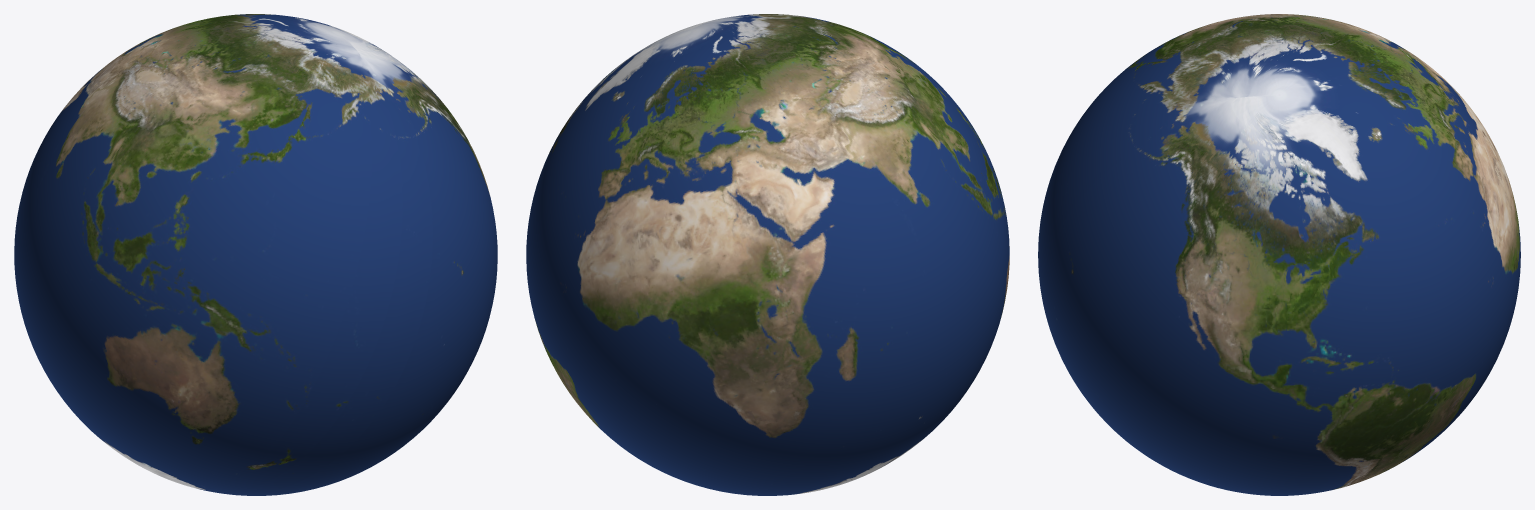
File: earth1.glb
3 views of the same model, side by side, from view 1: azimuth 30°, elevation 25°; view 2: azimuth 150°, elevation 25°; view 3: azimuth 270°, elevation 25° (orthographic).
Visible parts, largest first — view 1: Earth; view 2: Earth; view 3: Earth.
Boxes of the visible parts, x1,y1,x2,y2 form: Earth: (14,14,497,495); Earth: (526,14,1009,495); Earth: (1038,14,1520,495).
Size of the model in its own units: 0.1998 by 0.1993 by 0.2.
Materials: 1 (1 with a texture image).
